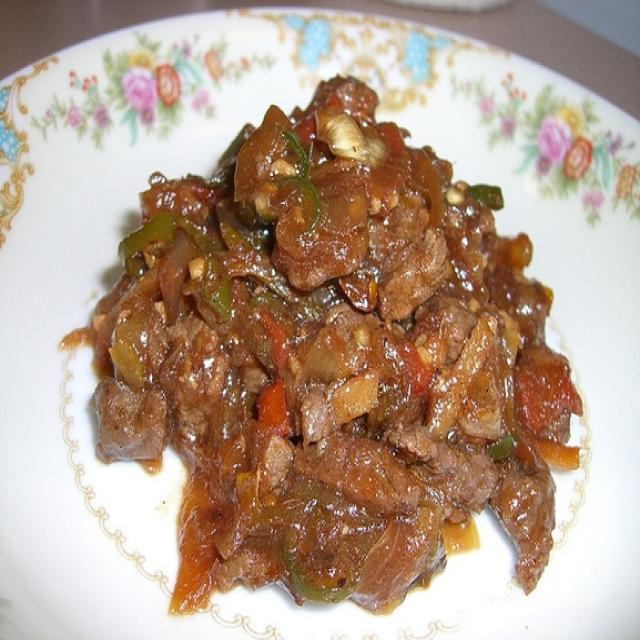牛肉菜式: (40, 34, 601, 612)
